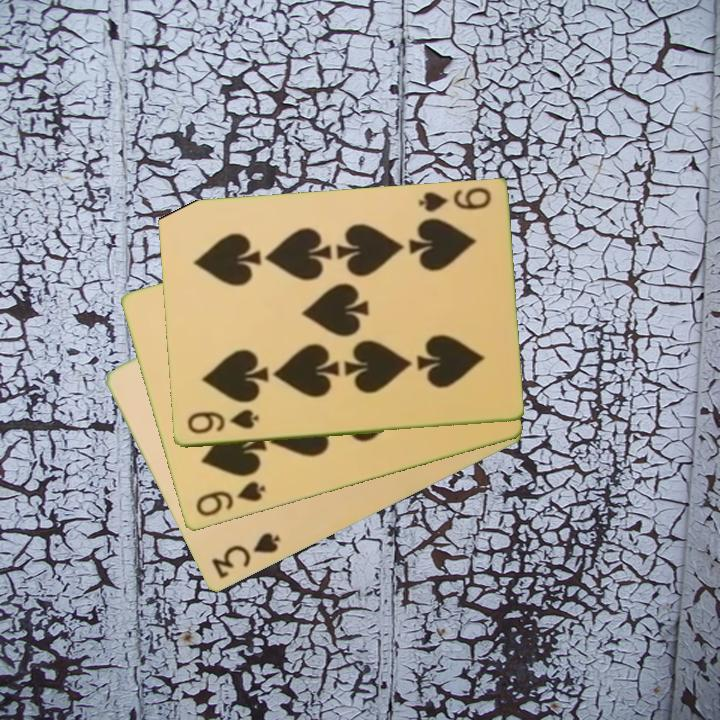3s: (208, 529, 283, 583)
9s: (192, 478, 268, 520), (415, 184, 494, 216), (184, 406, 262, 438)
